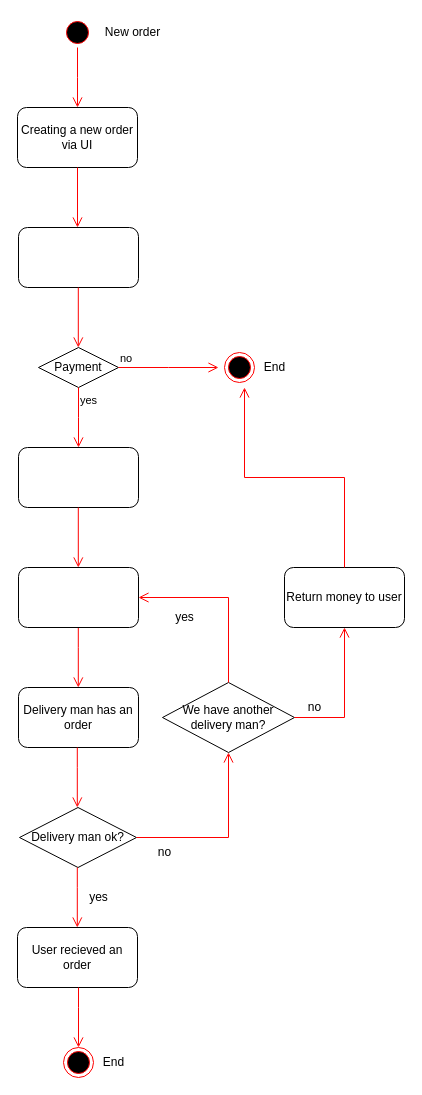
Some shapes in this 422 by 1095 pixel diagram are drawn without their labels. Each missing label, with the centre of its shape:
"Send order to restaurant" goes at point (78, 477).
"Send order to restaurant and call delivery man" goes at point (78, 597).
"Send order to server" goes at point (78, 257).
